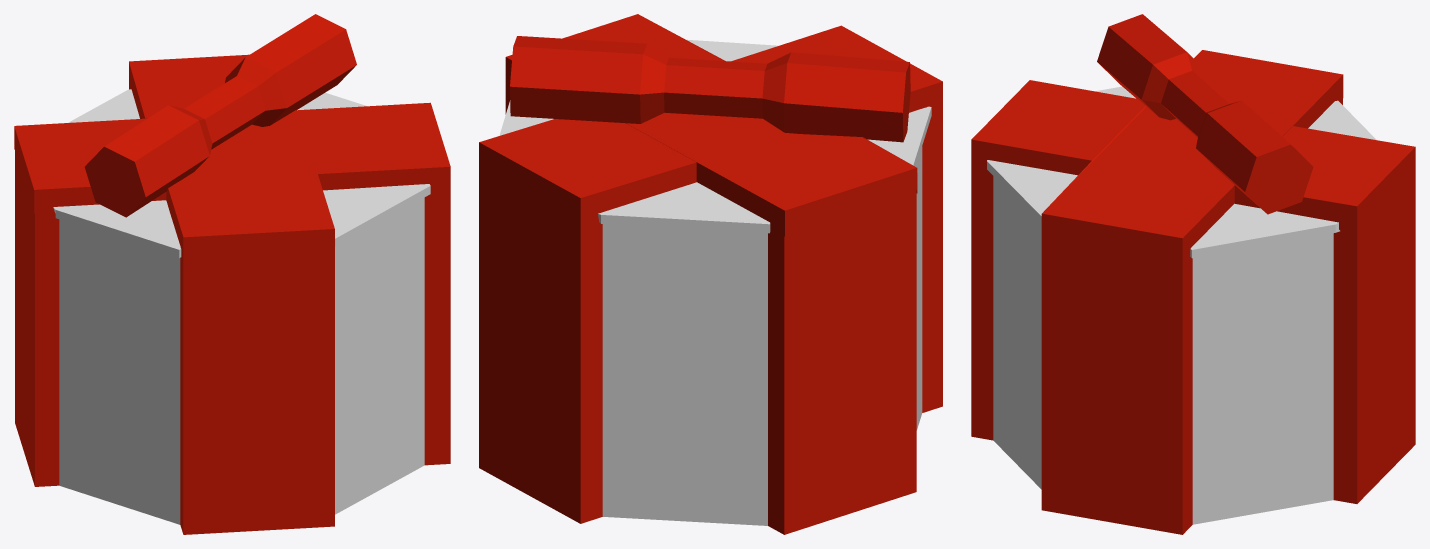
File: cylinder_present.fbx
The picture shows the model from 3 angles, left to right: view 1: azimuth 30°, elevation 25°; view 2: azimuth 150°, elevation 25°; view 3: azimuth 270°, elevation 25°; orthographic projection. The views are drawn at different scales.
Visible parts, largest first — view 1: Cylinder, Cylinder.003; view 2: Cylinder, Cylinder.003; view 3: Cylinder, Cylinder.003.
Part boxes in pixels (x1,y1,x2,y2): Cylinder: [14, 54, 450, 534]; Cylinder.003: [84, 14, 356, 217]; Cylinder: [479, 14, 942, 534]; Cylinder.003: [510, 36, 910, 142]; Cylinder: [971, 50, 1415, 534]; Cylinder.003: [1097, 14, 1313, 214].
Size of the model in its own units: 93.74 by 83.65 by 93.35.
